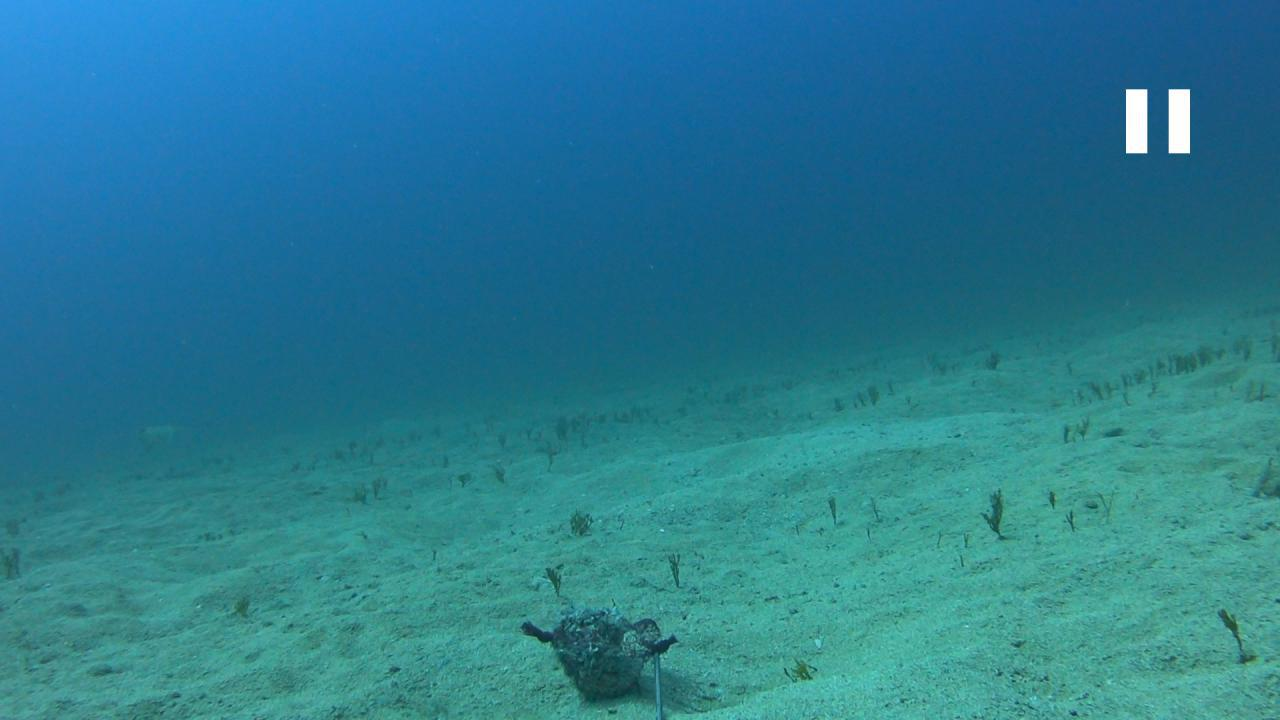dasyatis: (135, 419, 223, 452)
